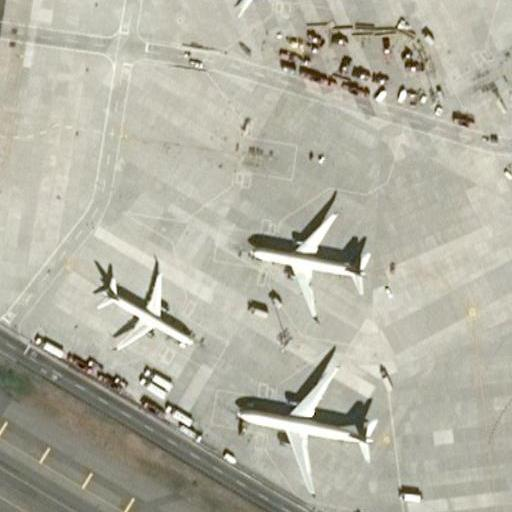Aircraft: (229, 349, 377, 489), (241, 195, 377, 316), (90, 255, 199, 357), (211, 0, 292, 14)
